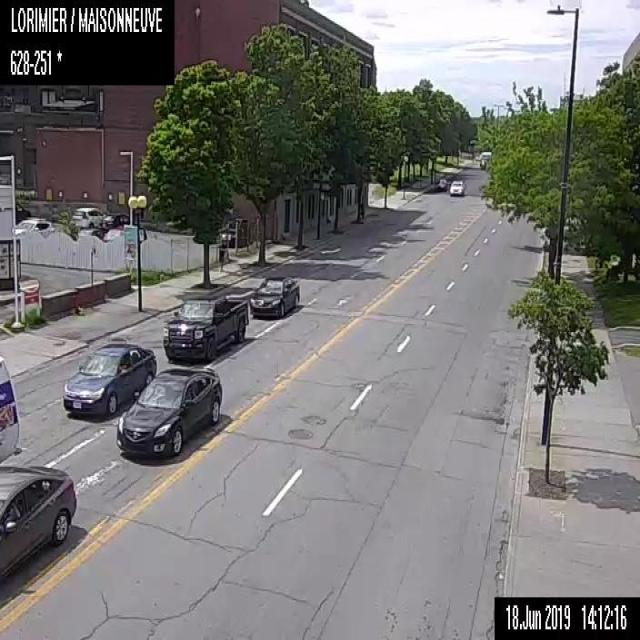pedestrian: (218, 240, 226, 270)
vehicle: (117, 367, 221, 456), (0, 465, 75, 580), (62, 342, 155, 417), (162, 293, 248, 360), (0, 354, 21, 466), (249, 277, 299, 317), (220, 217, 250, 248), (14, 216, 53, 237), (70, 205, 106, 227), (100, 212, 130, 231), (450, 179, 464, 195), (479, 151, 491, 168), (436, 177, 446, 191)
